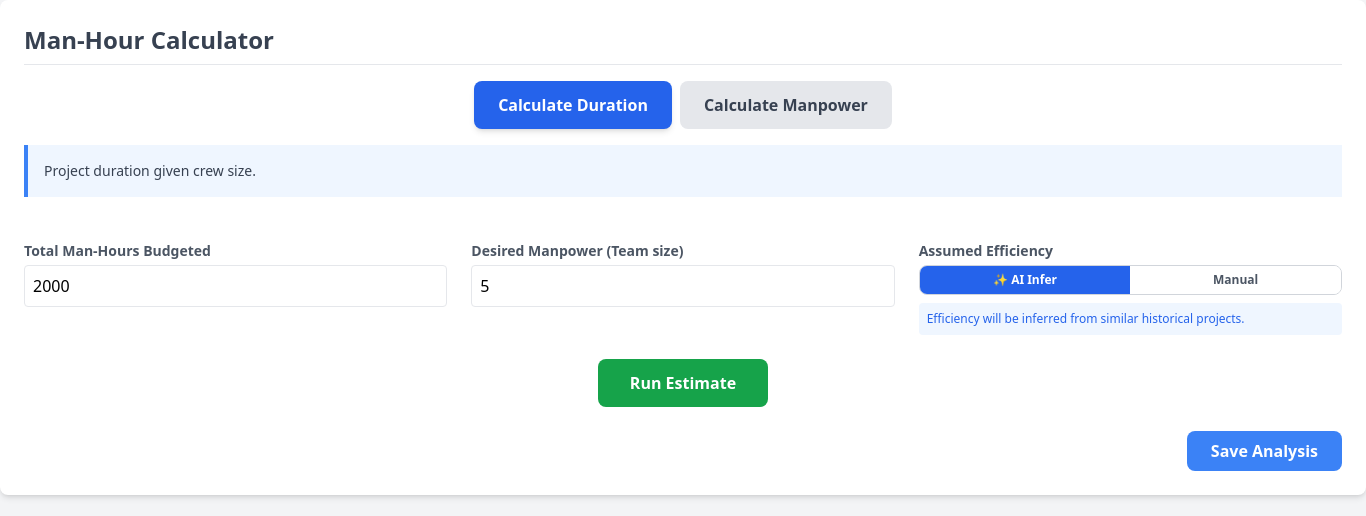
ProjectCalculator — manpower mode › clicking "Calculate Manpower" switches to manpower mode
Click the button "Calculate Manpower": click(786, 105) [680,81,892,129]
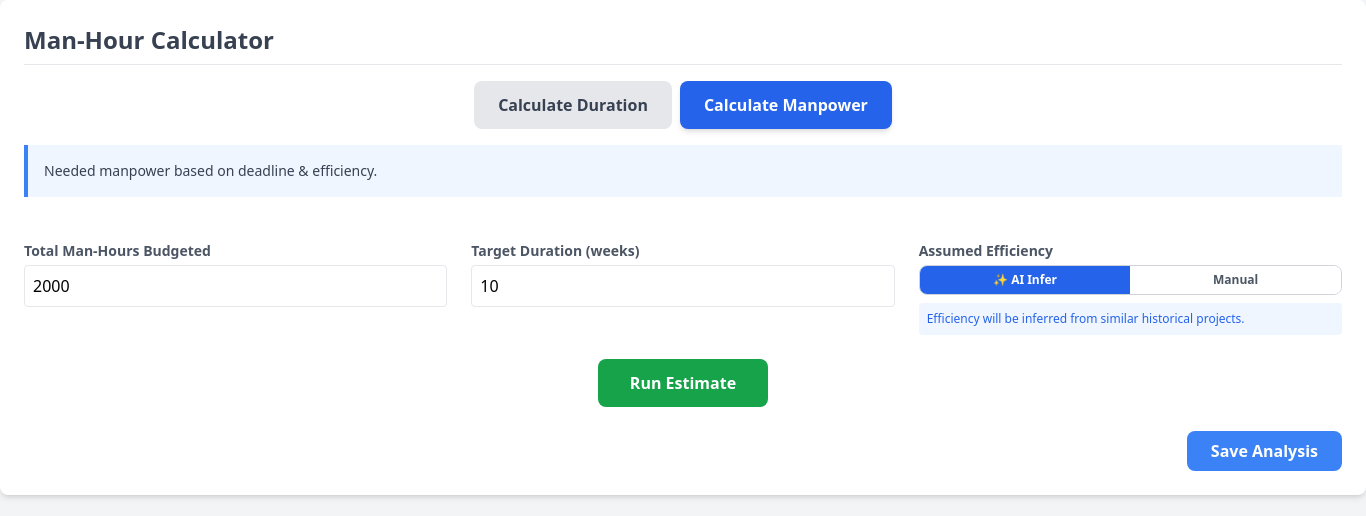
Expected: the text "Target Duration (weeks)" is shown, [471,241,639,260]
